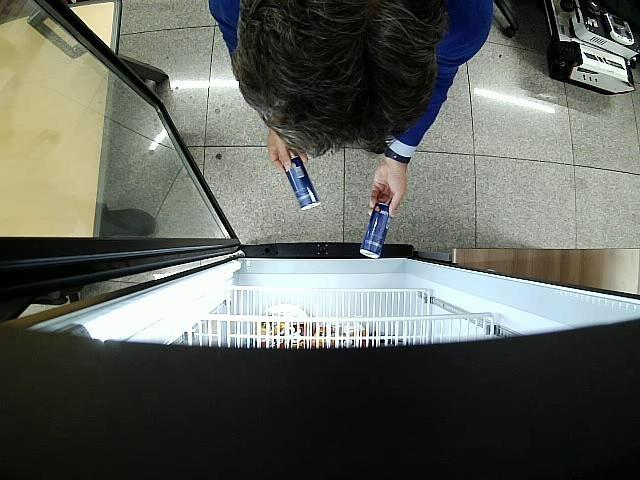16_hot6: (283, 156, 320, 210), (360, 202, 392, 258)
